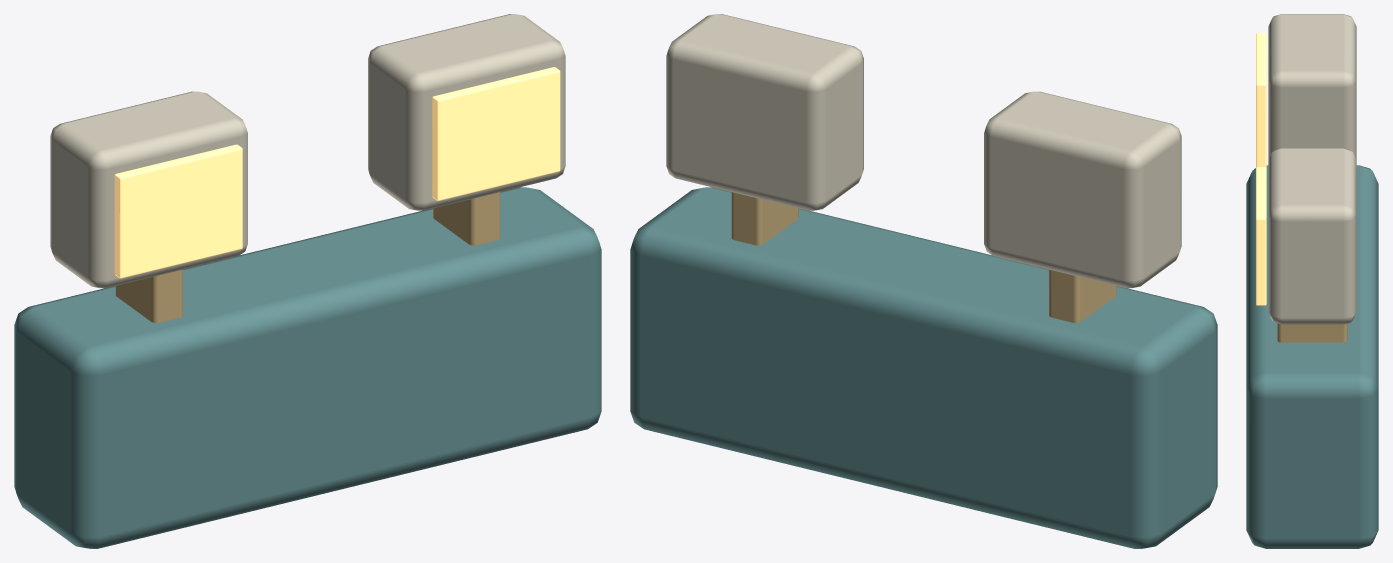
3 renders of one model, left to right at view 1: azimuth 30°, elevation 25°; view 2: azimuth 150°, elevation 25°; view 3: azimuth 270°, elevation 25°, orthographic. The views are drawn at different scales.
Visible parts, largest first — view 1: abandoned-cinema-and-projection-booth-emergency-light; view 2: abandoned-cinema-and-projection-booth-emergency-light; view 3: abandoned-cinema-and-projection-booth-emergency-light.
Boxes of the visible parts, box(x1,y1,x2,y2) form: abandoned-cinema-and-projection-booth-emergency-light: box(14, 14, 601, 548); abandoned-cinema-and-projection-booth-emergency-light: box(630, 14, 1217, 548); abandoned-cinema-and-projection-booth-emergency-light: box(1246, 14, 1378, 548).
Bounding box in the file's own units: 0.6 × 0.42 × 0.15.
